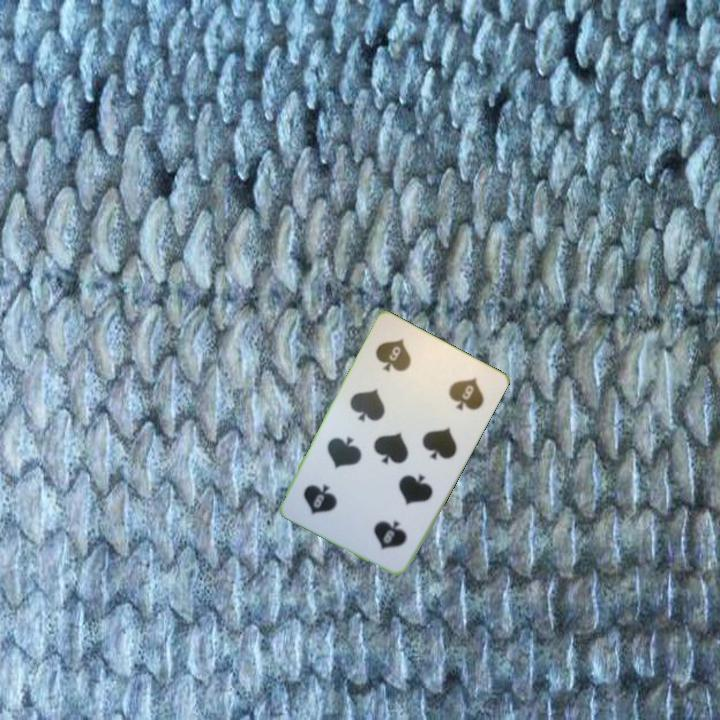s_9.png: (341, 486, 426, 567), (360, 322, 444, 403)
